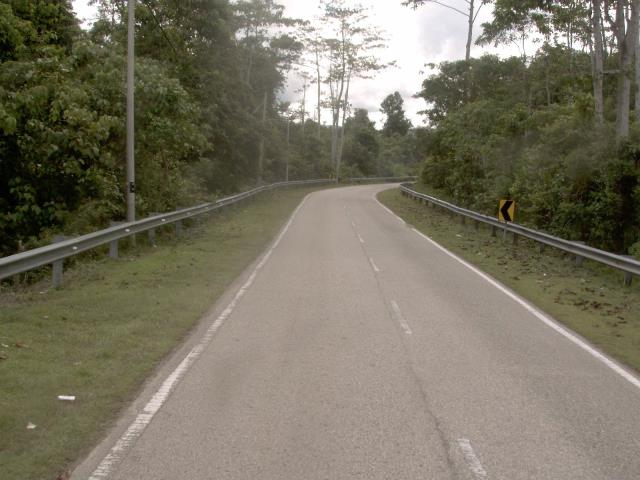traffic_sign: (493, 193, 520, 231)
